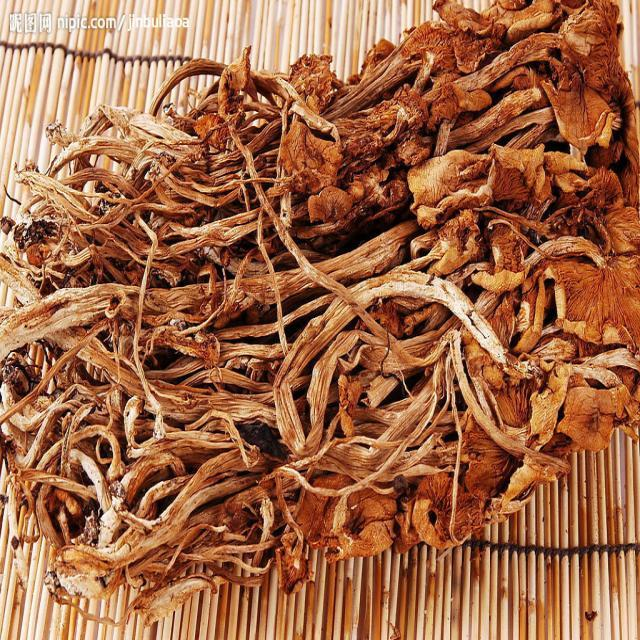Agrocybe aegerita: (19, 5, 640, 618)
